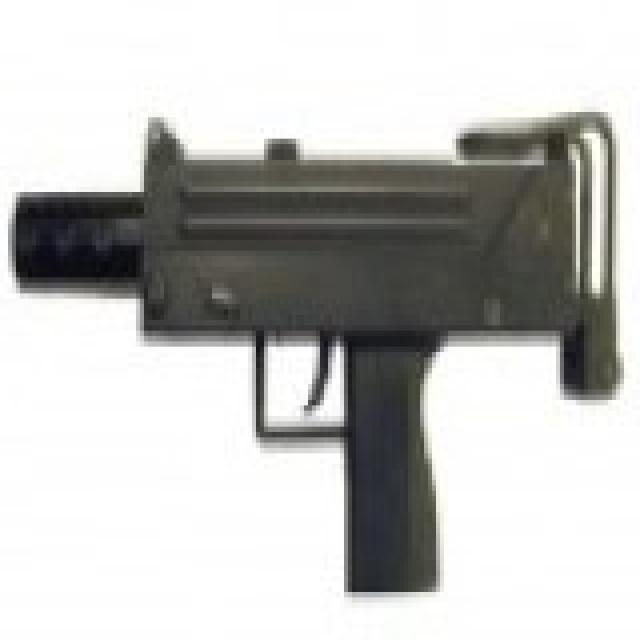Gun: (1, 90, 628, 593)
